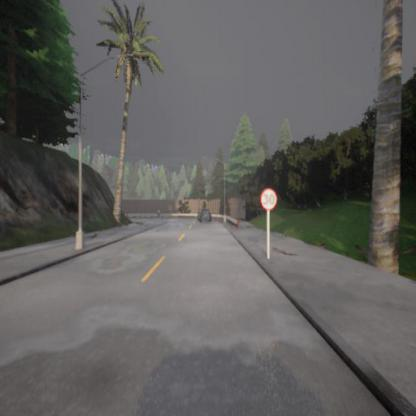traffic_sign_30: (260, 188, 278, 210)
vehicle: (196, 209, 211, 223)
